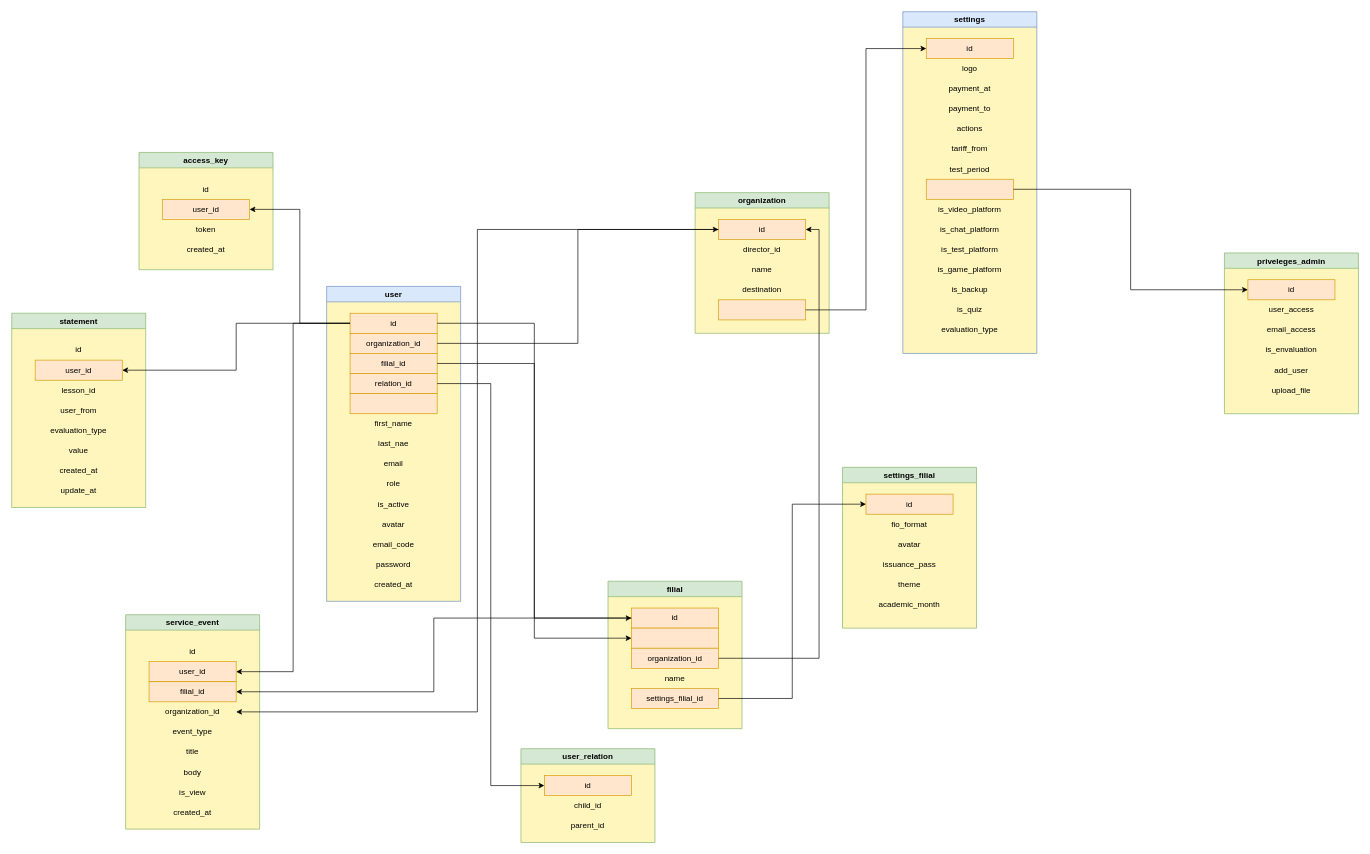
The diagram is 1370 pixels wide and 854 high, and some of its shapes have lost their labels. The centre of each missing label's shape, as x and y in pixels:
admin_id: [675,637]
priveleges_admin_id: [969,189]
settings_id: [762,309]
settings_user_id: [393,403]
